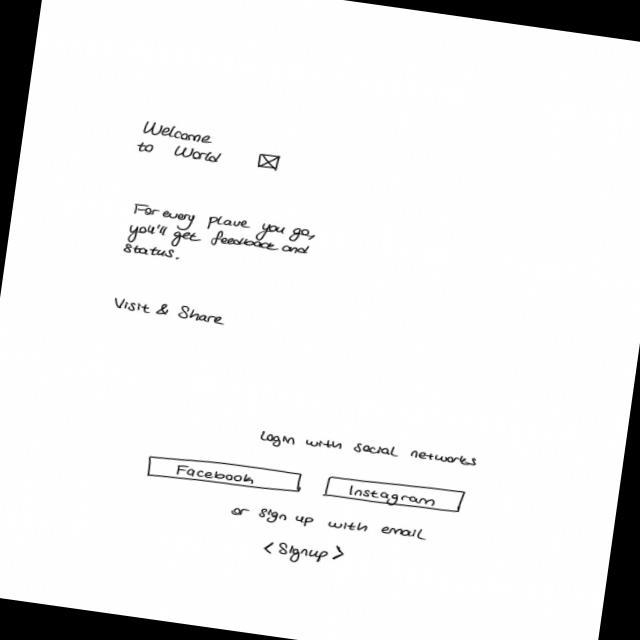button: (147, 452, 305, 499), (323, 471, 470, 519)
image: (257, 153, 284, 173)
label: (122, 201, 319, 282), (259, 428, 480, 478), (230, 502, 430, 546), (136, 119, 227, 166), (112, 296, 232, 330)
link: (262, 536, 348, 572)
